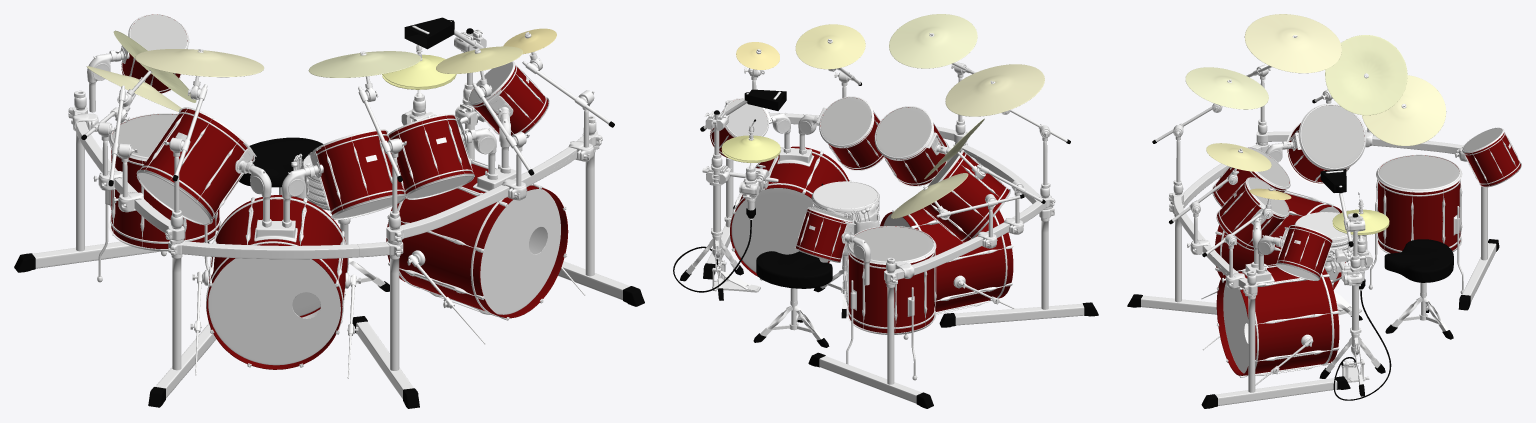
3 views of the same model, side by side, from view 1: azimuth 30°, elevation 25°; view 2: azimuth 150°, elevation 25°; view 3: azimuth 270°, elevation 25° (orthographic). The views are drawn at different scales.
Parts seen in each view (by area): view 1: Object_6, Object_47, Object_49, Object_51, Object_7, Object_48, Object_50, Object_59, Object_38, Object_37, Object_14, Object_42 (+19 smaller); view 2: Object_6, Object_59, Object_49, Object_52, Object_48, Object_51, Object_17, Object_14, Object_46, Object_50, Object_16, Object_29 (+23 smaller); view 3: Object_49, Object_6, Object_59, Object_48, Object_15, Object_14, Object_13, Object_50, Object_46, Object_7, Object_17, Object_29 (+18 smaller).
Boxes of the visible parts, bbox=[...] form: Object_6: bbox=[32, 31, 629, 399]; Object_47: bbox=[208, 189, 560, 365]; Object_49: bbox=[206, 163, 568, 369]; Object_51: bbox=[141, 108, 404, 218]; Object_7: bbox=[164, 48, 610, 213]; Object_48: bbox=[111, 66, 548, 248]; Object_50: bbox=[121, 14, 472, 193]; Object_59: bbox=[112, 14, 512, 157]; Object_38: bbox=[190, 197, 360, 376]; Object_37: bbox=[387, 158, 584, 342]; Object_14: bbox=[135, 49, 264, 77]; Object_42: bbox=[136, 107, 271, 225]; Object_6: bbox=[706, 49, 1084, 403]; Object_59: bbox=[725, 97, 960, 261]; Object_49: bbox=[730, 146, 1013, 311]; Object_52: bbox=[731, 188, 910, 272]; Object_48: bbox=[710, 111, 934, 333]; Object_51: bbox=[876, 107, 1009, 242]; Object_17: bbox=[889, 14, 977, 68]; Object_14: bbox=[945, 64, 1044, 116]; Object_46: bbox=[686, 93, 778, 288]; Object_50: bbox=[796, 97, 883, 261]; Object_16: bbox=[795, 24, 865, 69]; Object_29: bbox=[756, 251, 832, 288]; Object_49: bbox=[1214, 193, 1345, 375]; Object_6: bbox=[1141, 35, 1496, 405]; Object_59: bbox=[1248, 105, 1502, 215]; Object_48: bbox=[1277, 155, 1460, 277]; Object_15: bbox=[1325, 35, 1407, 115]; Object_14: bbox=[1244, 14, 1341, 73]; Object_13: bbox=[1362, 75, 1446, 145]; Object_50: bbox=[1217, 132, 1520, 249]; Object_46: bbox=[1325, 185, 1380, 384]; Object_7: bbox=[1155, 64, 1272, 294]; Object_17: bbox=[1185, 67, 1268, 109]; Object_29: bbox=[1384, 239, 1453, 282].
Bounding box in the file's own units: 2.28 × 1.4 × 2.14.
